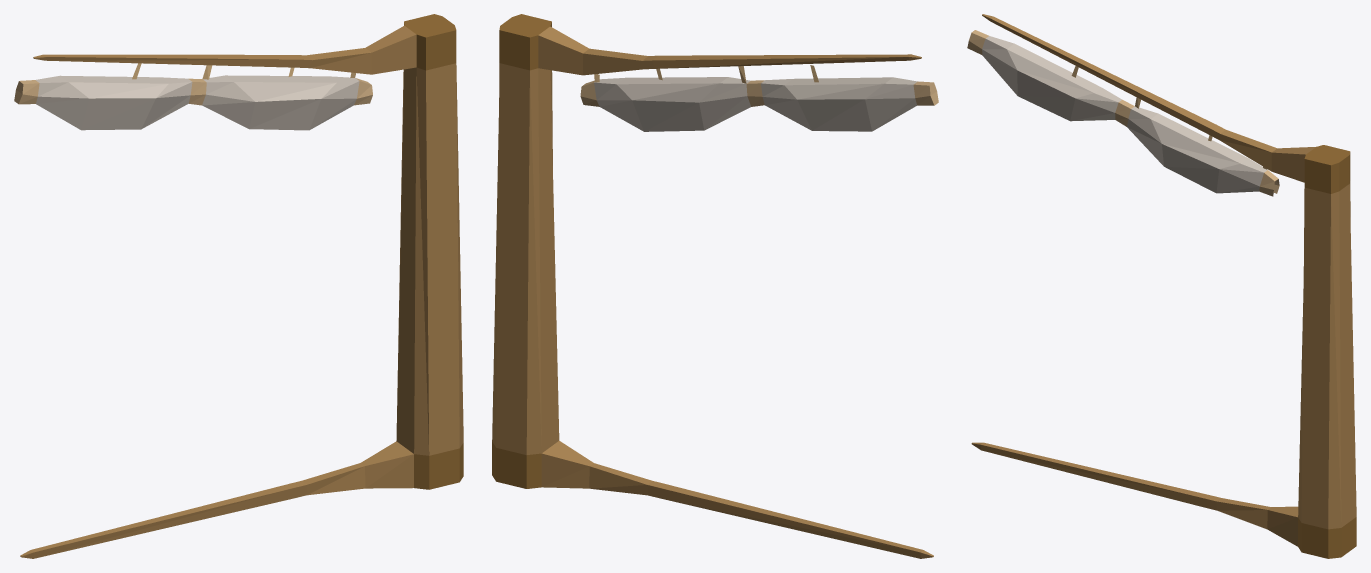
Rendered from obj_hoisted_sail_5_0.obj.
The picture shows the model from 3 angles, left to right: view 1: azimuth 30°, elevation 25°; view 2: azimuth 150°, elevation 25°; view 3: azimuth 330°, elevation 25°; orthographic projection. The views are drawn at different scales.
Size of the model in its own units: 3.58 by 4.02 by 0.4062.
